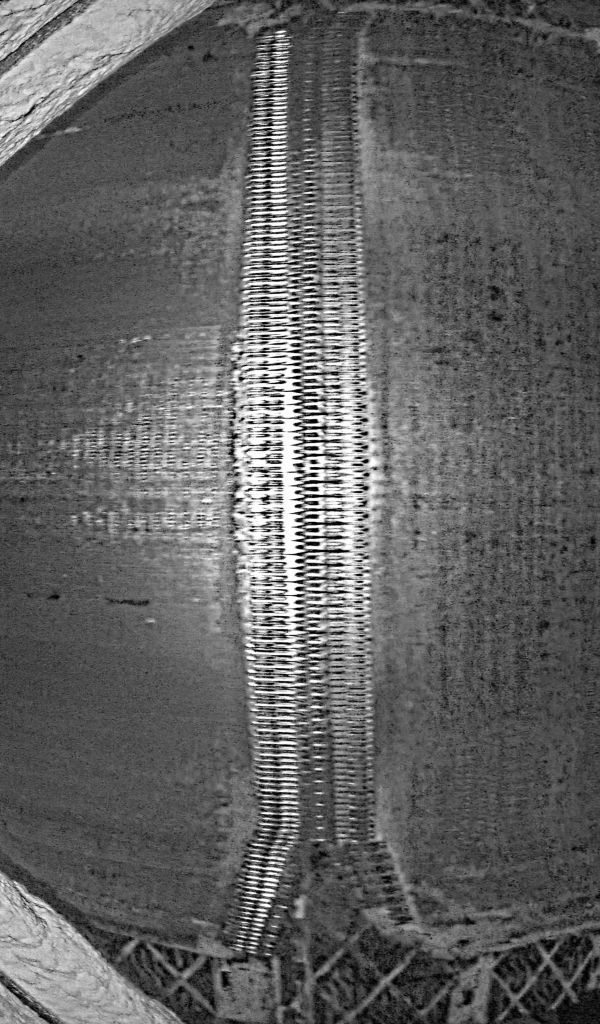damage: (219, 831, 421, 960)
splice: (219, 6, 429, 955)
